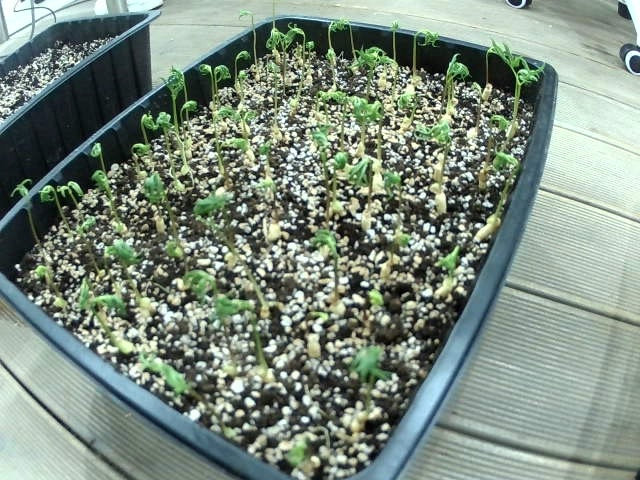생장기: (481, 58, 541, 104), (467, 156, 531, 198), (269, 427, 326, 471), (180, 264, 232, 311), (371, 91, 435, 129), (87, 294, 134, 341), (386, 15, 436, 59), (213, 287, 264, 330), (403, 136, 448, 180), (343, 352, 391, 392), (20, 246, 56, 299), (336, 158, 379, 202), (419, 244, 455, 295), (292, 296, 334, 339), (364, 174, 410, 213), (350, 287, 393, 327), (463, 37, 502, 78), (263, 22, 311, 54), (296, 235, 343, 267), (303, 16, 343, 52), (159, 98, 196, 136), (339, 97, 379, 131), (195, 176, 231, 213), (315, 78, 355, 111), (475, 112, 519, 142), (65, 275, 98, 314), (143, 115, 185, 145), (75, 131, 113, 164), (304, 119, 342, 151), (340, 47, 374, 82), (311, 145, 347, 178), (194, 55, 223, 95), (72, 207, 101, 247), (322, 16, 356, 50), (224, 3, 260, 35), (158, 232, 195, 263), (239, 174, 273, 207), (162, 361, 195, 395), (428, 51, 467, 79), (223, 133, 259, 163), (139, 179, 177, 207), (60, 177, 91, 211), (239, 142, 270, 174), (103, 232, 127, 273), (7, 168, 36, 201), (225, 39, 247, 82), (165, 65, 192, 98), (378, 228, 409, 256), (227, 99, 252, 126), (130, 134, 147, 167), (38, 177, 55, 202), (95, 176, 116, 191)
